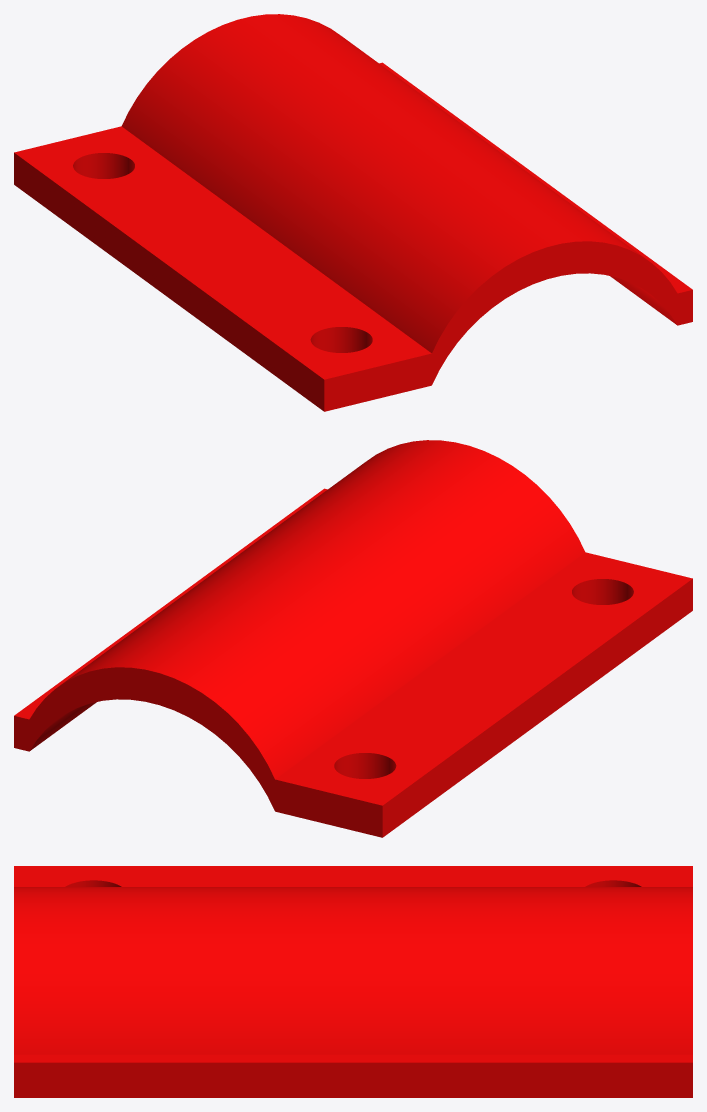
File: cable_mount.glb
The picture shows the model from 3 angles, top to bottom: view 1: azimuth 30°, elevation 25°; view 2: azimuth 150°, elevation 25°; view 3: azimuth 270°, elevation 25°; orthographic projection. The views are drawn at different scales.
Bounding box in the file's own units: 0.024 × 0.00686 × 0.035.
